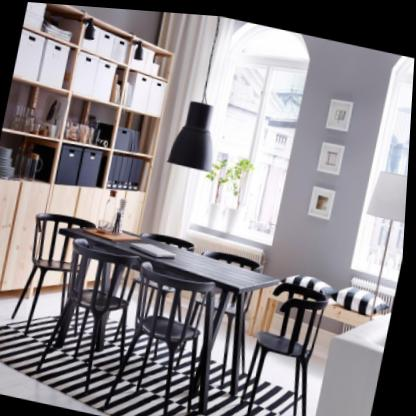Chair: (237, 270, 340, 416), (10, 203, 105, 348)
